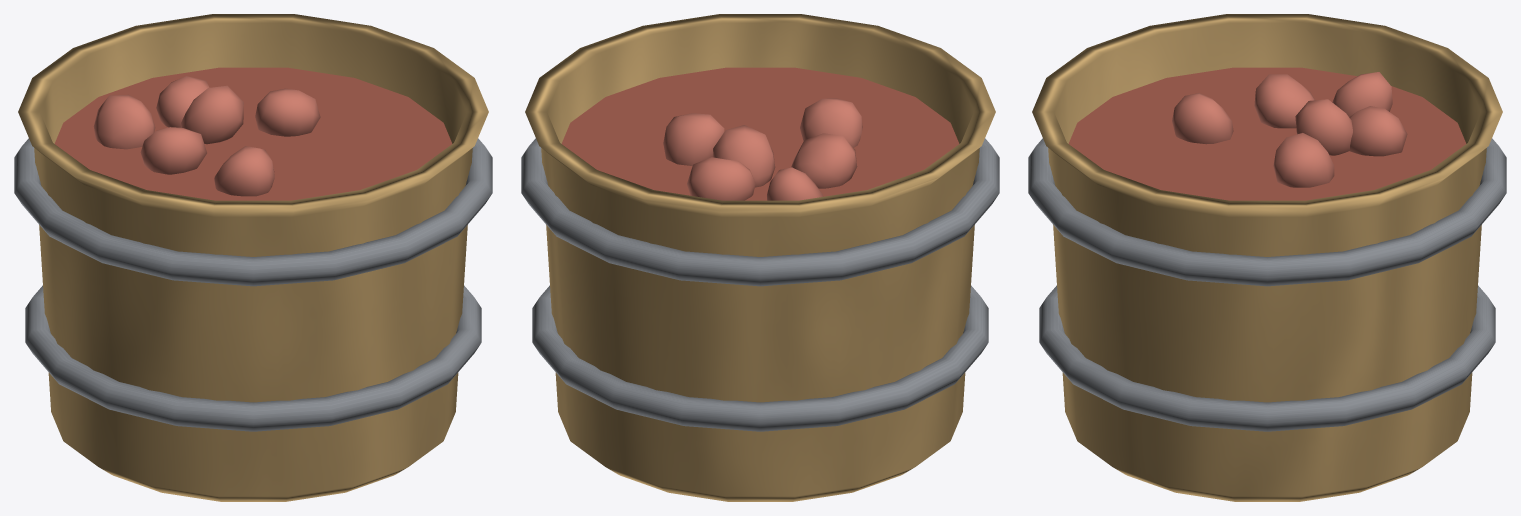
Rendered from bait_chum.glb.
The picture shows the model from 3 angles, left to right: view 1: azimuth 30°, elevation 25°; view 2: azimuth 150°, elevation 25°; view 3: azimuth 270°, elevation 25°; orthographic projection.
Visible parts, largest first — view 1: bait_chum; view 2: bait_chum; view 3: bait_chum.
Part boxes in pixels (x1,y1,x2,y2): bait_chum: (14,14,492,501); bait_chum: (521,14,999,501); bait_chum: (1028,14,1506,501).
Size of the model in its own units: 0.132 by 0.0956 by 0.13.
4 materials, 2 textured.
